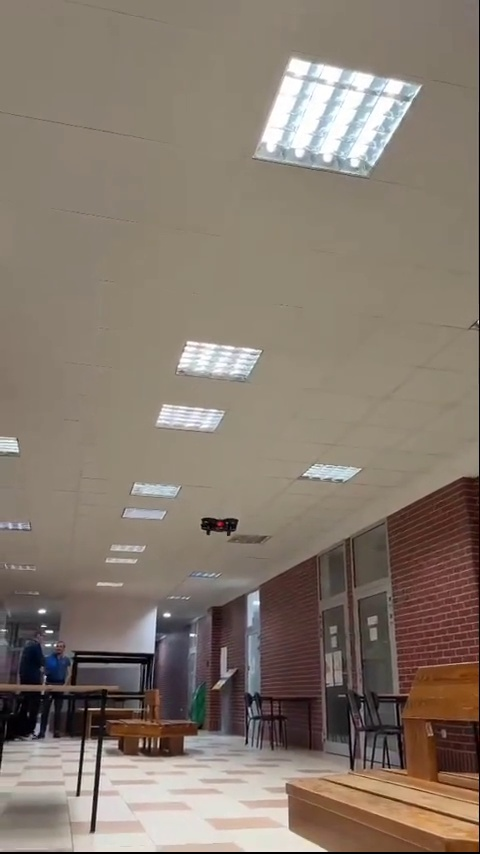drone: (200, 515, 237, 538)
no vest: (17, 635, 48, 740), (50, 638, 72, 745)
